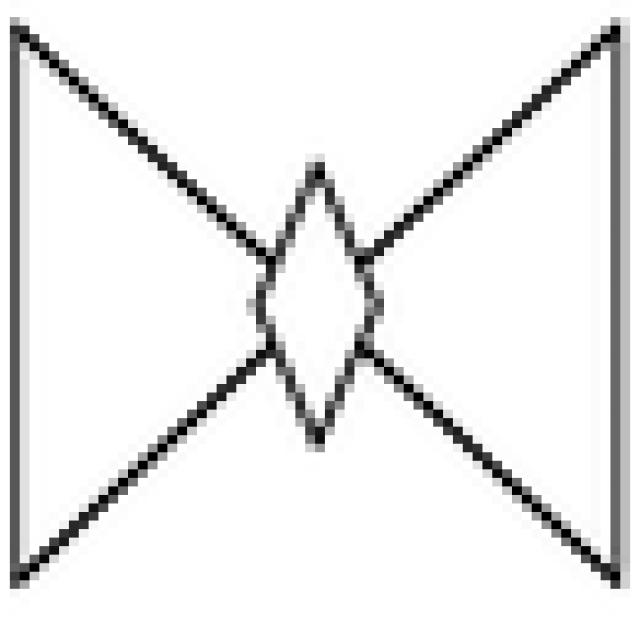Plug Valve: (12, 27, 620, 586)
